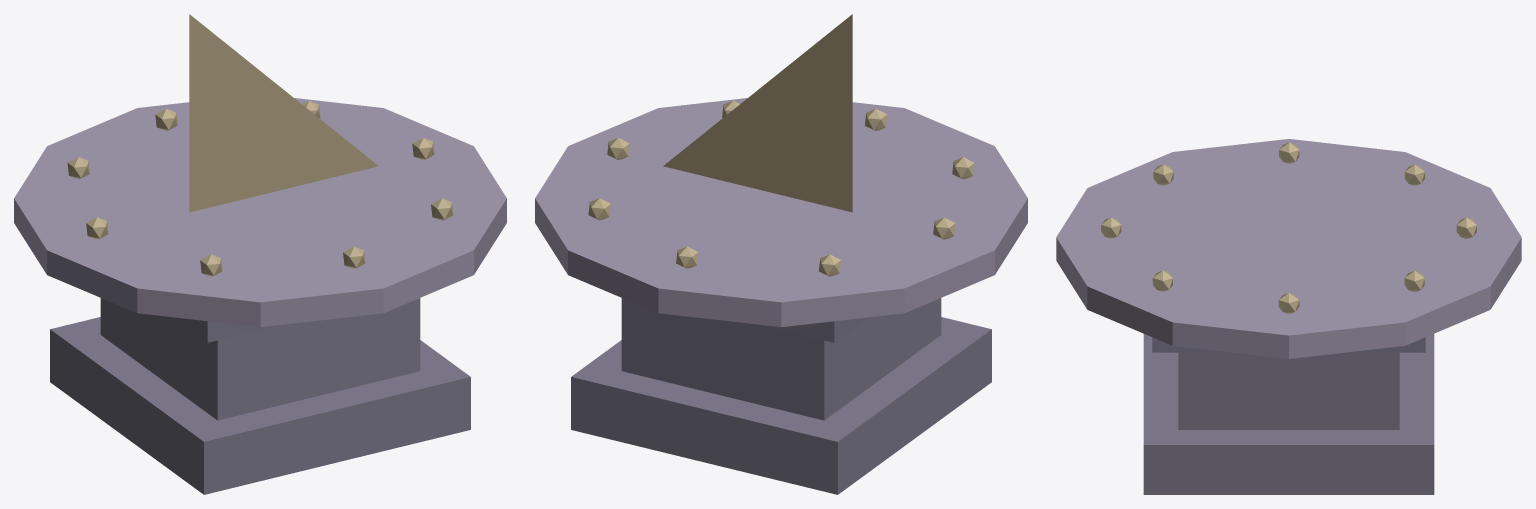
The model's file is map-exclusive-v3__highland_04.glb.
The picture shows the model from 3 angles, left to right: view 1: azimuth 30°, elevation 25°; view 2: azimuth 150°, elevation 25°; view 3: azimuth 270°, elevation 25°; orthographic projection. The views are drawn at different scales.
Parts seen in each view (by area): view 1: highland_04; view 2: highland_04; view 3: highland_04.
Boxes of the visible parts, x1,y1,x2,y2 form: highland_04: (14,14,506,494); highland_04: (535,14,1027,494); highland_04: (1056,139,1521,494).
Bounding box in the file's own units: 1.44 × 1.32 × 1.44.
